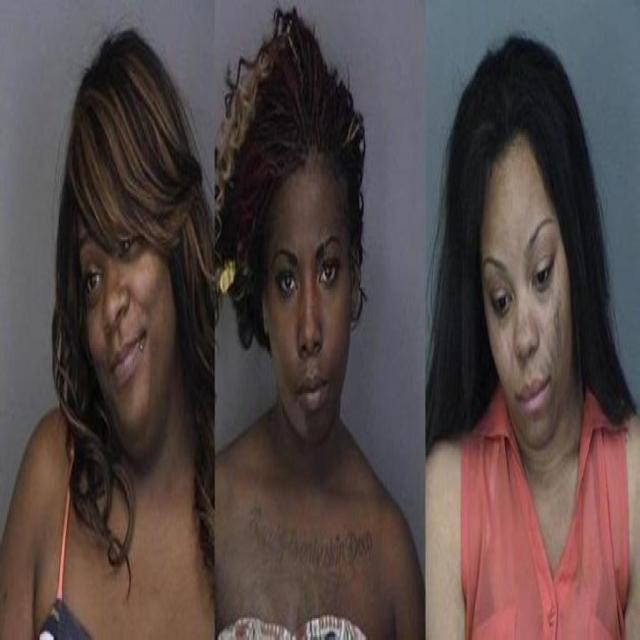Face: (63, 145, 178, 477), (471, 136, 587, 437), (261, 150, 362, 470)
